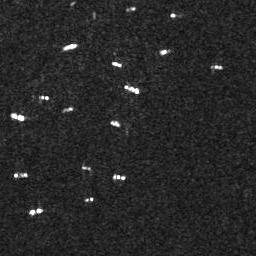ship: (9, 112, 25, 122), (28, 207, 45, 216), (124, 84, 139, 94), (210, 62, 223, 72), (63, 42, 77, 51), (113, 172, 125, 182), (111, 59, 123, 68), (13, 172, 29, 178), (81, 164, 91, 173), (38, 93, 49, 101), (159, 48, 169, 55), (62, 106, 73, 112), (110, 120, 121, 126), (85, 197, 94, 203)
